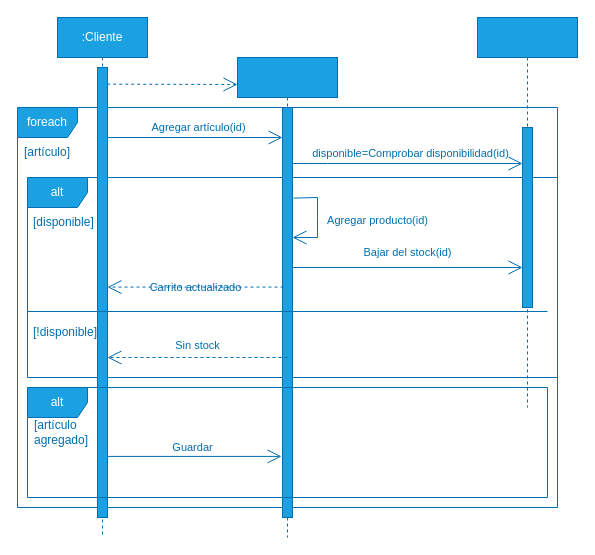
Image size: 595x555. Some labels were removed from this diagram. The box of each missing label's shape, as (x1, y1, x2, y2) in pixels:
:Carrito: (236, 56, 338, 538)
:Stock: (476, 16, 578, 408)
